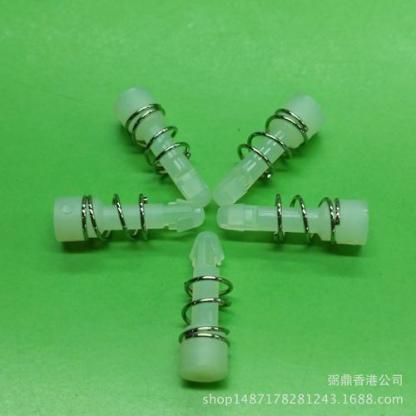FOD: (236, 106, 310, 184), (124, 103, 193, 172), (176, 274, 233, 348), (270, 193, 343, 250), (80, 190, 150, 249)
